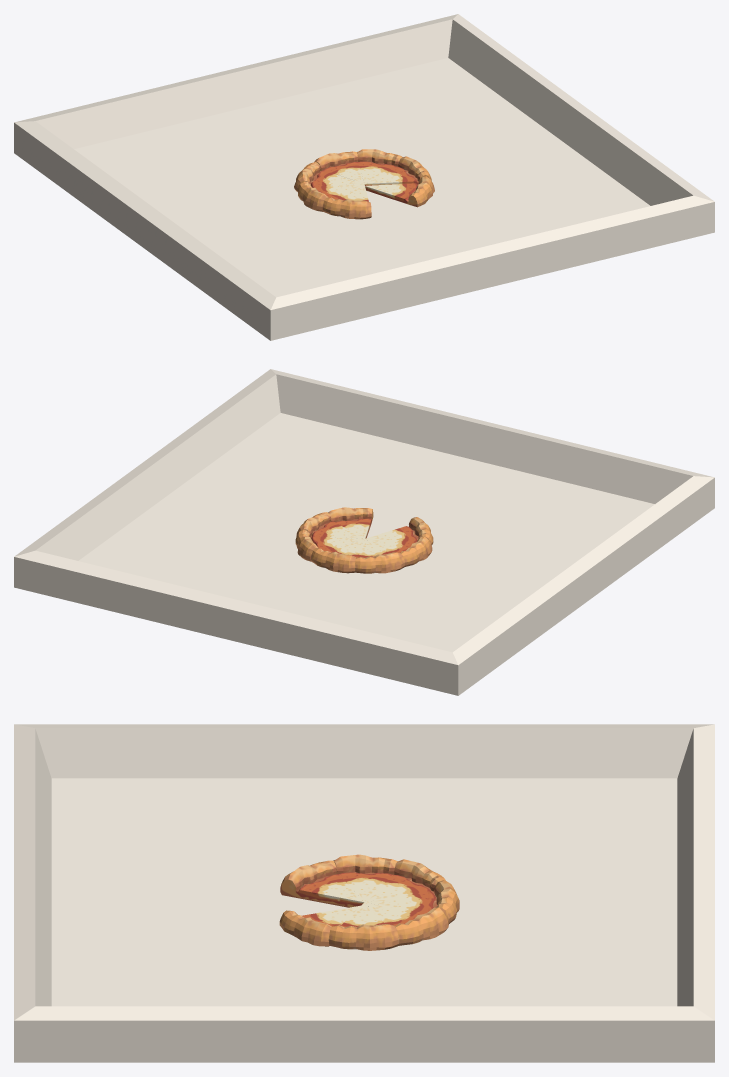
3 renders of one model, top to bottom at view 1: azimuth 30°, elevation 25°; view 2: azimuth 150°, elevation 25°; view 3: azimuth 270°, elevation 25°, orthographic. The views are drawn at different scales.
Parts seen in each view (by area): view 1: Cube, Cylinder.003, Cylinder.007, Cylinder.002, Cylinder.001, Cylinder.005, Cylinder.006, Cylinder.004; view 2: Cube, Cylinder.004, Cylinder.006, Cylinder.005, Cylinder.003, Cylinder.001, Cylinder.002, Cylinder.007; view 3: Cube, Cylinder.007, Cylinder.002, Cylinder.001, Cylinder.005, Cylinder.003, Cylinder.004, Cylinder.006.
Part boxes in pixels (box(x1,y1,x2,y2)): Cube: box(14, 14, 714, 340); Cylinder.003: box(365, 176, 434, 207); Cylinder.007: box(322, 184, 371, 219); Cylinder.002: box(364, 156, 431, 185); Cylinder.001: box(357, 149, 402, 183); Cylinder.005: box(297, 181, 363, 211); Cylinder.006: box(314, 151, 364, 183); Cylinder.004: box(294, 162, 363, 191); Cube: box(14, 369, 714, 695); Cylinder.004: box(355, 539, 404, 573); Cylinder.006: box(311, 539, 364, 573); Cylinder.005: box(365, 536, 432, 567); Cylinder.003: box(328, 507, 373, 538); Cylinder.001: box(295, 529, 363, 561); Cylinder.002: box(296, 512, 363, 538); Cylinder.007: box(365, 517, 433, 545); Cube: box(14, 724, 714, 1062); Cylinder.007: box(280, 860, 364, 907); Cylinder.002: box(328, 902, 398, 950); Cylinder.001: box(365, 902, 448, 945); Cylinder.005: box(333, 854, 397, 901); Cylinder.003: box(279, 905, 360, 946); Cylinder.004: box(365, 859, 445, 901); Cylinder.006: box(365, 880, 459, 923).
Bounding box in the file's own units: 1184 × 87.86 × 1184.
